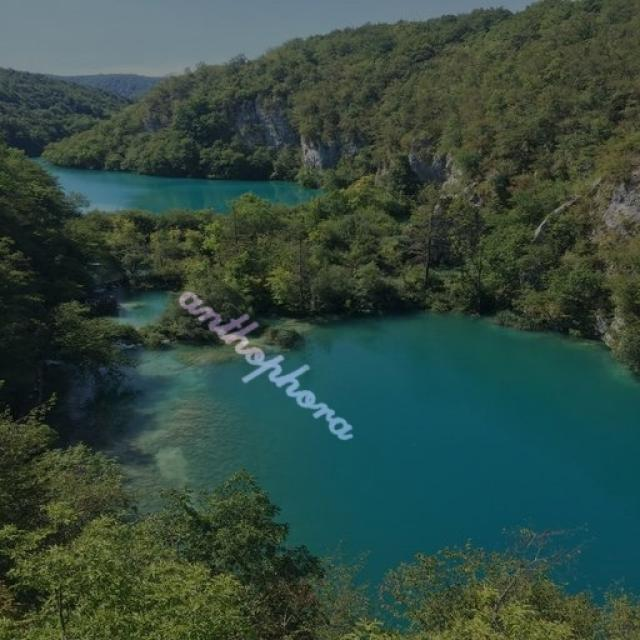watermark: (167, 266, 378, 451)
